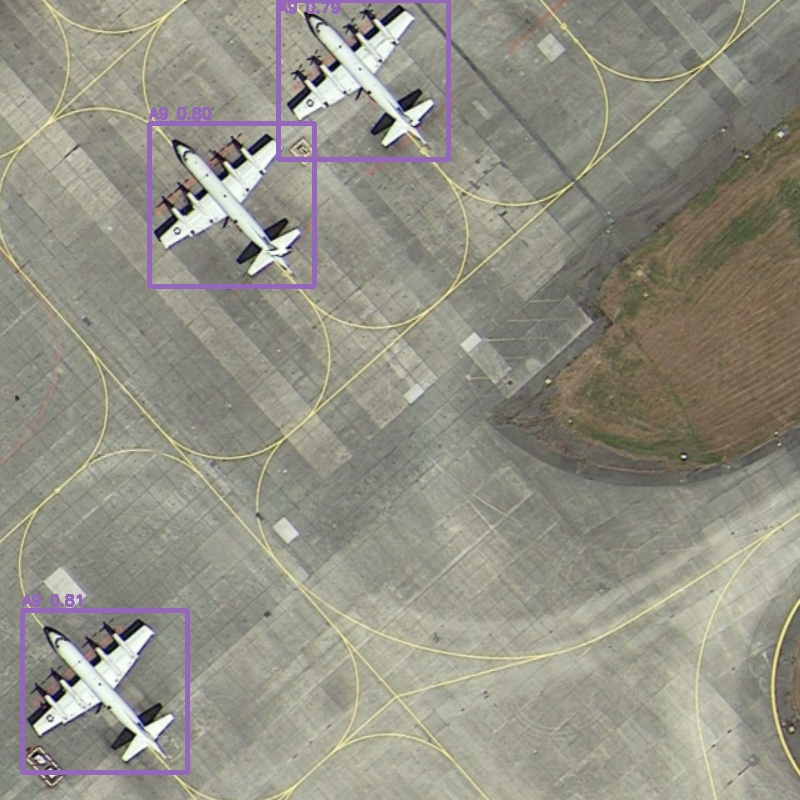A9: (278, 0, 448, 159), (149, 123, 314, 286), (22, 610, 187, 772)
